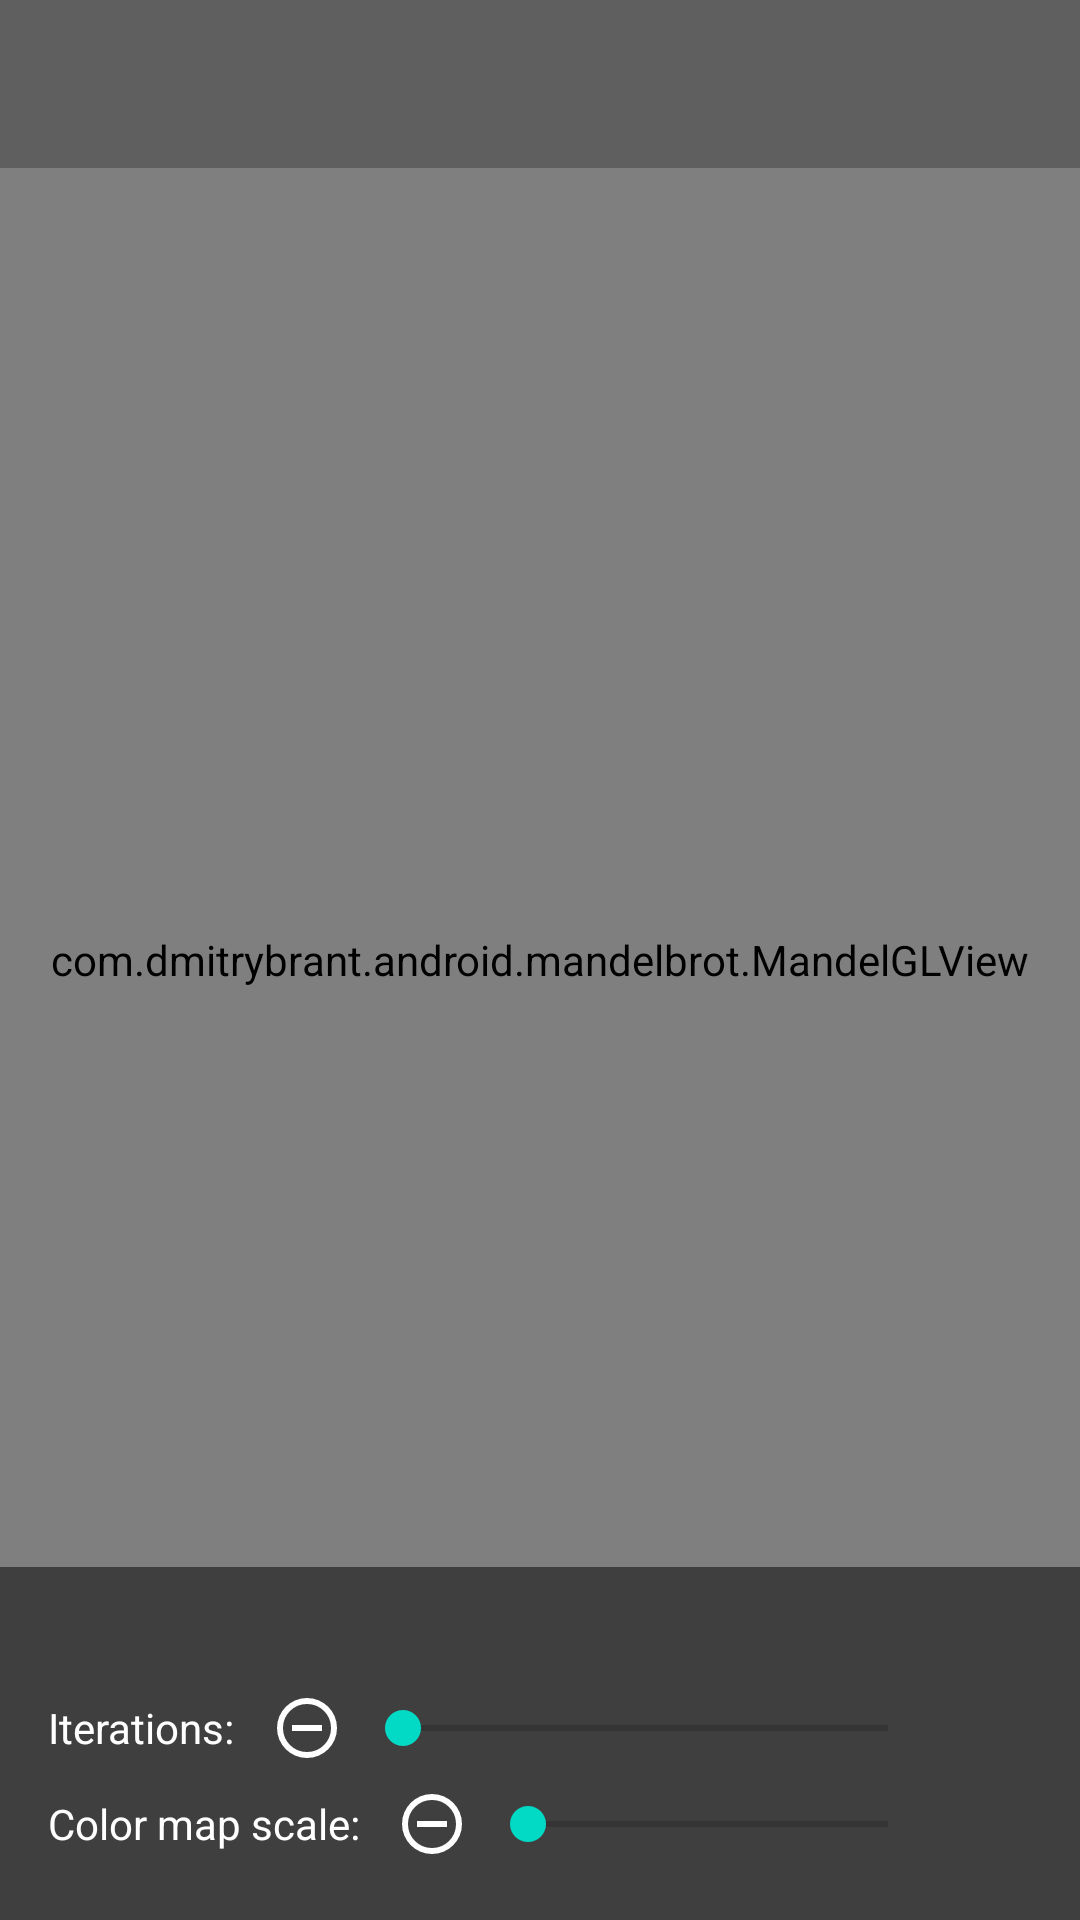

Named icons in this screenshot (1080px×1920px) and their bounding boxes, (x1, y1, x2, y2):
subtract circle: (277, 1698, 337, 1758), (402, 1794, 462, 1854)
